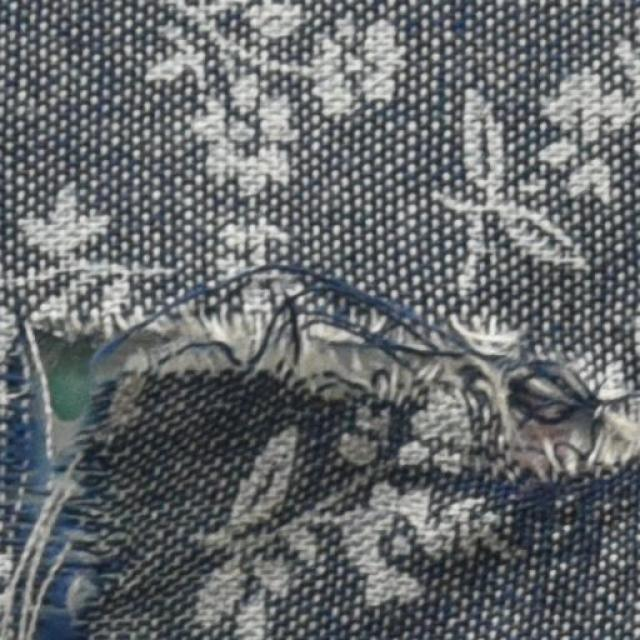Hole: (35, 332, 126, 452)
Snag: (124, 271, 639, 495), (4, 405, 114, 639)
